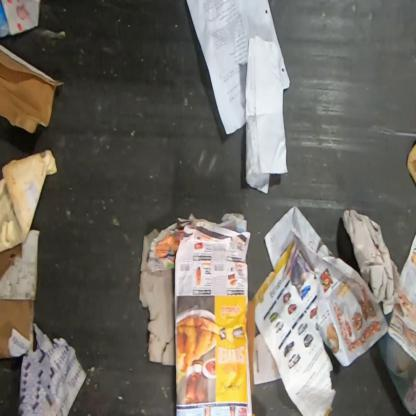cardboard: (0, 45, 63, 133), (138, 228, 174, 366), (0, 229, 41, 301), (0, 300, 35, 360), (246, 298, 257, 396), (407, 143, 415, 187)
